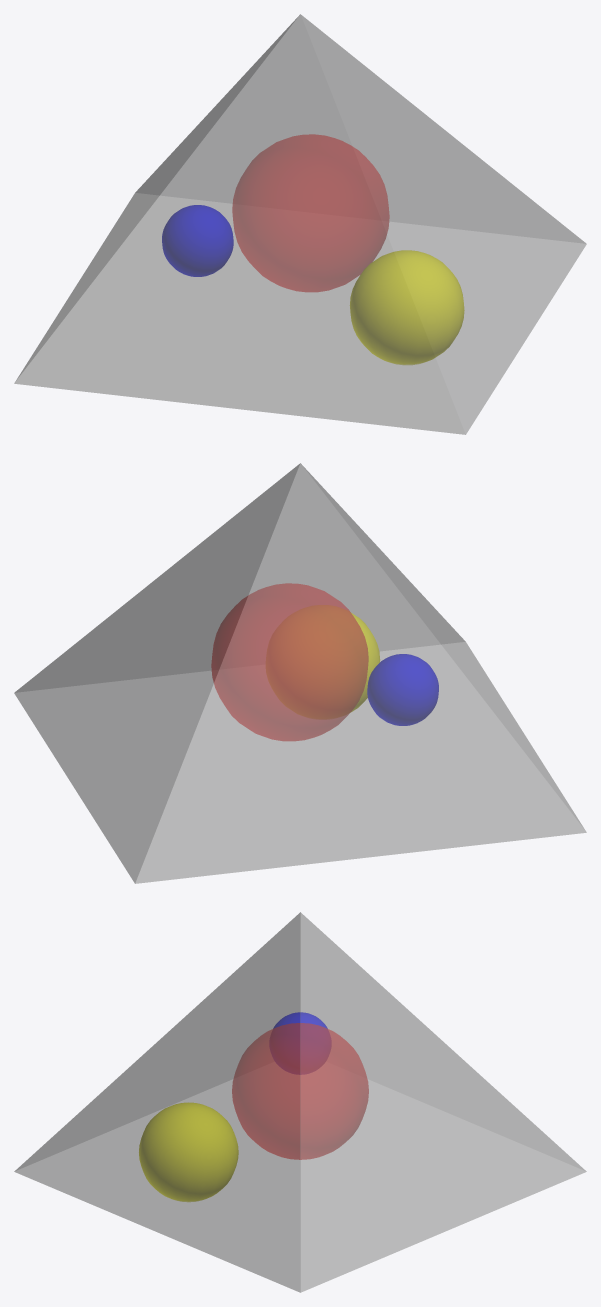
3 renders of one model, top to bottom at view 1: azimuth 30°, elevation 25°; view 2: azimuth 150°, elevation 25°; view 3: azimuth 270°, elevation 25°, orthographic. The views are drawn at different scales.
Visible parts, largest first — view 1: pPyramid1, pSphere2, pSphere3, pSphere1; view 2: pPyramid1, pSphere2, pSphere1, pSphere3; view 3: pPyramid1, pSphere2, pSphere3.
Boxes of the visible parts, x1=… form: pPyramid1: x1=14, y1=14, x2=586, y2=434; pSphere2: x1=232, y1=134, x2=389, y2=291; pSphere3: x1=350, y1=250, x2=464, y2=364; pSphere1: x1=162, y1=205, x2=233, y2=276; pPyramid1: x1=14, y1=463, x2=586, y2=883; pSphere2: x1=211, y1=583, x2=368, y2=740; pSphere1: x1=367, y1=654, x2=438, y2=725; pSphere3: x1=350, y1=613, x2=379, y2=712; pPyramid1: x1=14, y1=912, x2=586, y2=1292; pSphere2: x1=232, y1=1023, x2=368, y2=1159; pSphere3: x1=139, y1=1102, x2=238, y2=1201.
Bounding box in the file's own units: 18.29 × 9.43 × 18.29.
